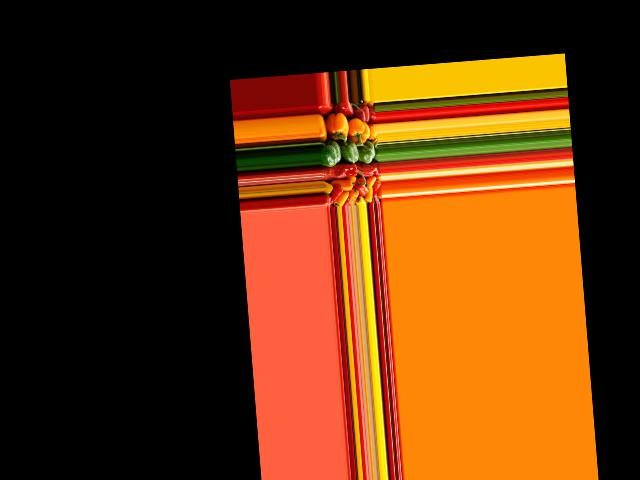bell_pepper: (327, 184, 344, 204)
